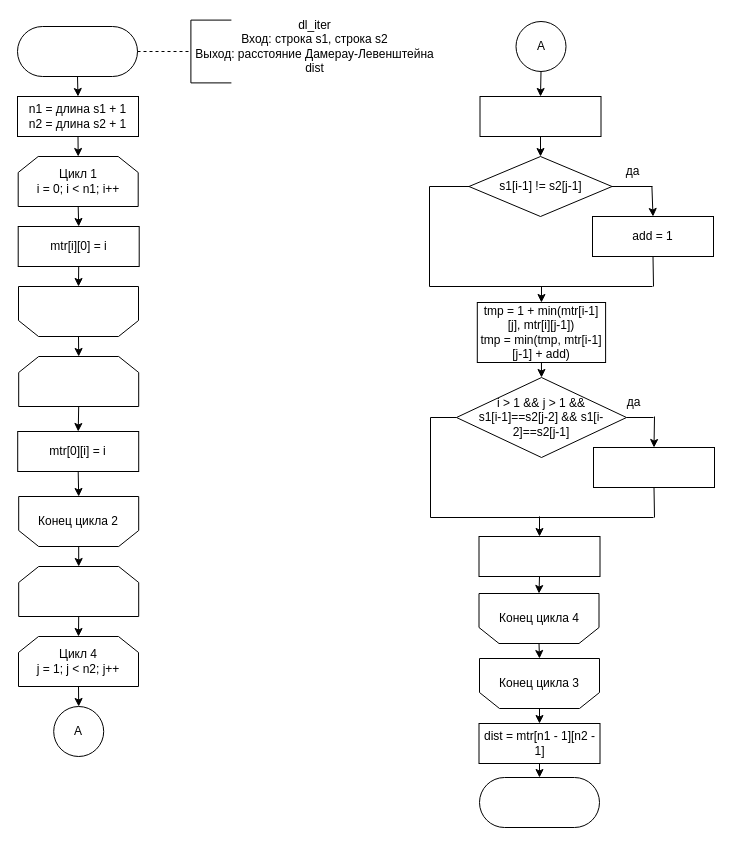
Some shapes in this 732 by 845 pixel diagram are drawn without their labels. The centre of each missing label's shape, as x and y in pixels:
"add = 0" goes at point 540,116.
"mtr[i][j] = tmp" goes at point 539,556.
"tmp = min(tmp, mtr[i-2][j-2] + 1)" goes at point 653,467.
"Конец" goes at point 539,802.
"Конец цикла 1" goes at point 78,311.
"Начало" goes at point 77,51.
"Цикл 2 i = 1; i < n2; i++" goes at point 78,381.
"Цикл 3 i = 1; i < n1; i++" goes at point 78,591.
